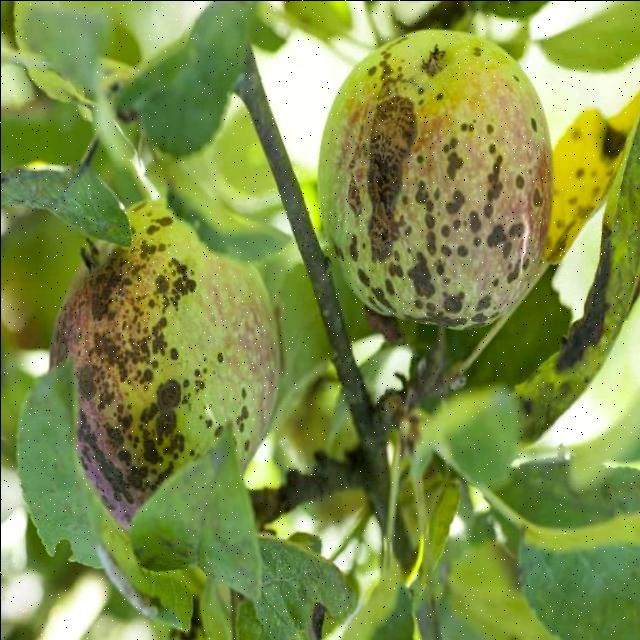SCAB: (36, 149, 283, 577), (310, 6, 574, 364)
